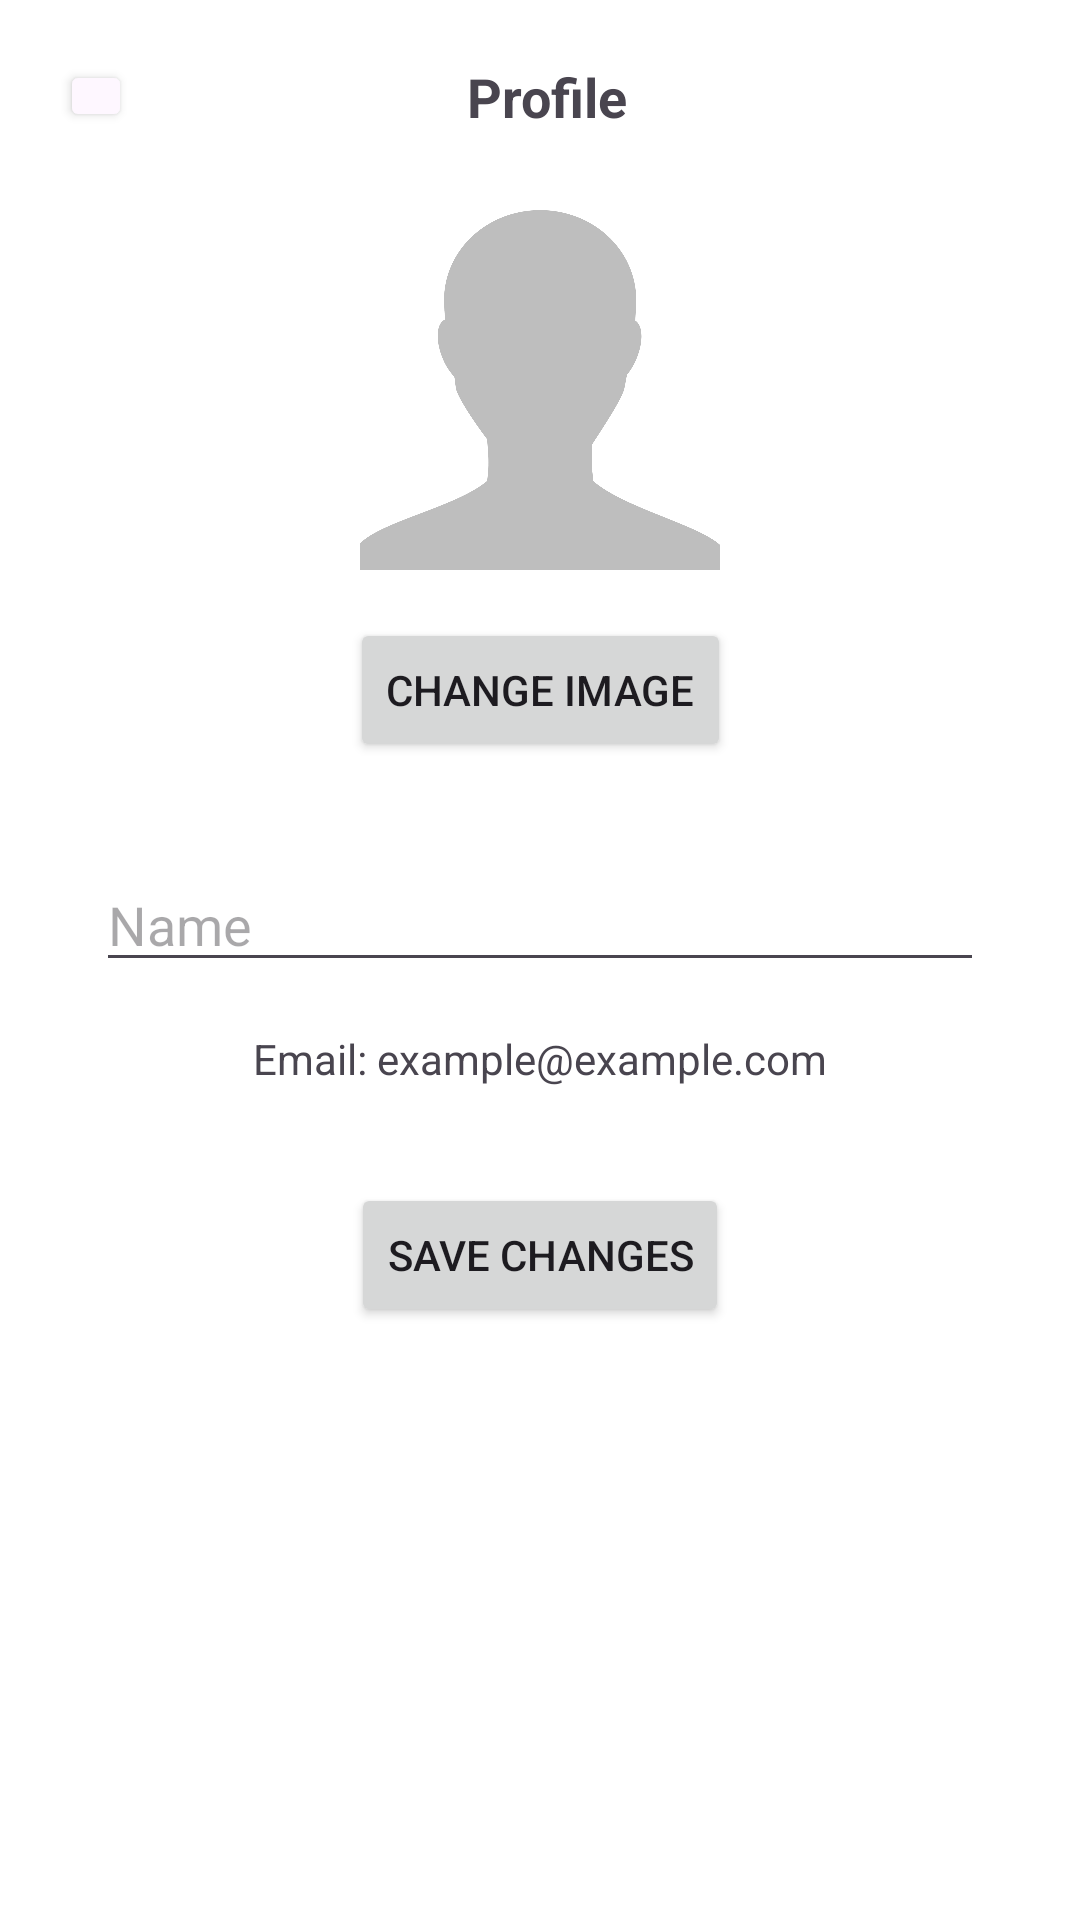

Where icons sit on this 1080*1920 app screen, as (left=x1, top=y1, right=x2, bottom=y2):
user: (left=360, top=210, right=720, bottom=570)
